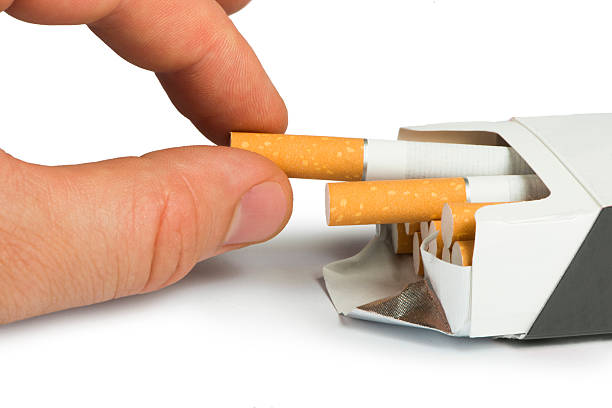cigarette: (321, 116, 612, 341), (227, 130, 536, 181), (324, 173, 552, 228), (440, 201, 519, 248), (450, 240, 477, 269), (391, 223, 414, 255), (427, 221, 444, 258), (412, 232, 425, 276), (419, 220, 429, 242), (403, 221, 417, 236), (441, 246, 452, 263)
